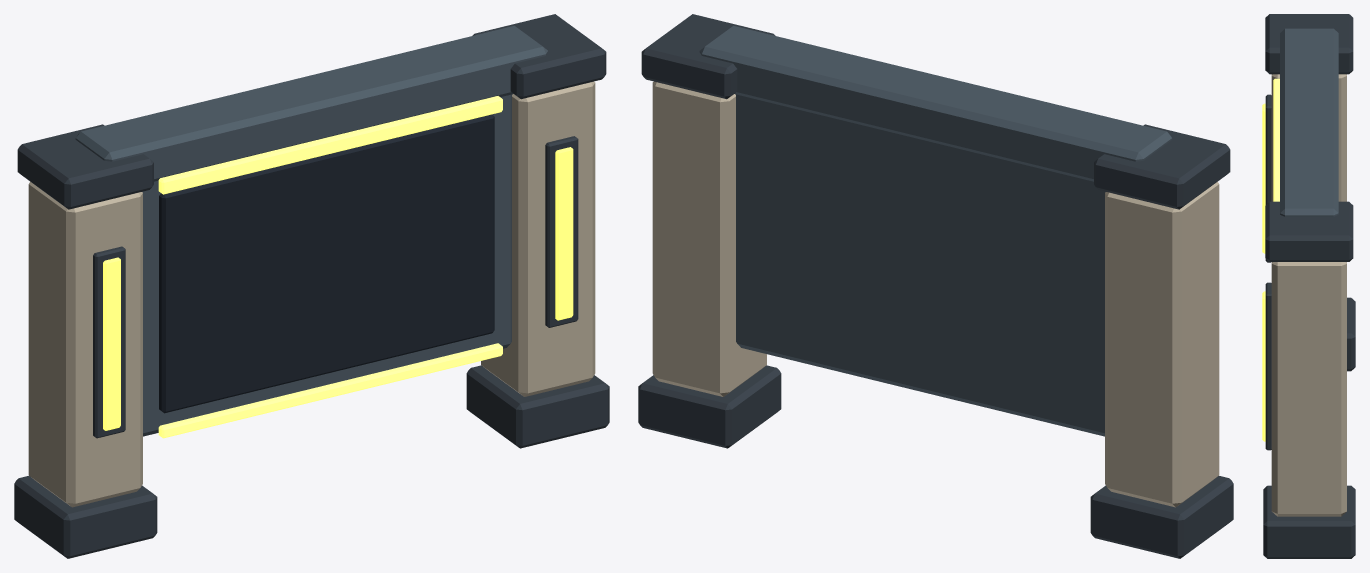
Rendered from Court_SignFrame.fbx.
3 renders of one model, left to right at view 1: azimuth 30°, elevation 25°; view 2: azimuth 150°, elevation 25°; view 3: azimuth 270°, elevation 25°, orthographic. The views are drawn at different scales.
Visible parts, largest first — view 1: Panel, Concrete, Frame, FrameDark, Accent_Neon, Lamp; view 2: Frame, Concrete, FrameDark; view 3: Concrete, FrameDark, Frame, Lamp, Accent_Neon.
Part boxes in pixels (left/top/right/bottom): Panel: left=159, top=114, right=494, bottom=413; Concrete: left=28, top=81, right=595, bottom=507; Frame: left=75, top=25, right=548, bottom=436; FrameDark: left=14, top=14, right=609, bottom=558; Accent_Neon: left=158, top=96, right=502, bottom=438; Lamp: left=103, top=147, right=573, bottom=430; Frame: left=699, top=25, right=1172, bottom=436; Concrete: left=652, top=81, right=1219, bottom=507; FrameDark: left=638, top=14, right=1233, bottom=558; Concrete: left=1271, top=74, right=1346, bottom=516; FrameDark: left=1263, top=14, right=1355, bottom=558; Frame: left=1280, top=28, right=1338, bottom=216; Lamp: left=1262, top=103, right=1265, bottom=441; Accent_Neon: left=1273, top=78, right=1279, bottom=201.
Size of the model in its own units: 6.4 by 4.33 by 1.11.
